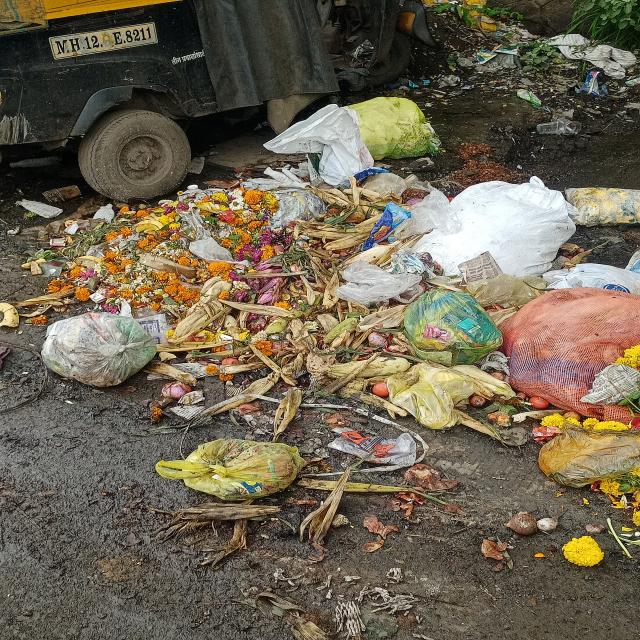garbage: (40, 163, 640, 510), (284, 88, 456, 174)
